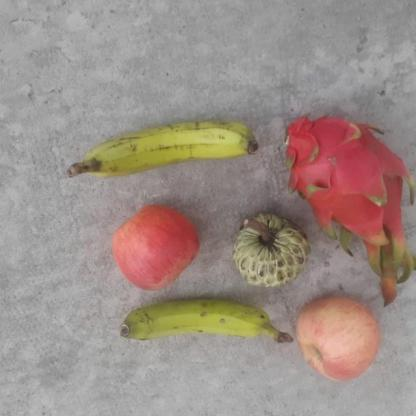annona: (228, 210, 312, 290)
apple: (289, 292, 386, 389), (111, 205, 197, 291)
banana: (90, 110, 262, 183), (118, 295, 274, 352)
pitaya: (279, 106, 413, 248)
